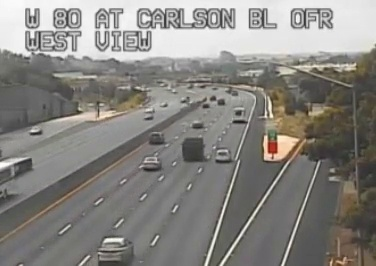car: (97, 237, 135, 266), (142, 157, 161, 170), (215, 148, 231, 162), (149, 132, 164, 145)
small-truck: (182, 138, 203, 161)
